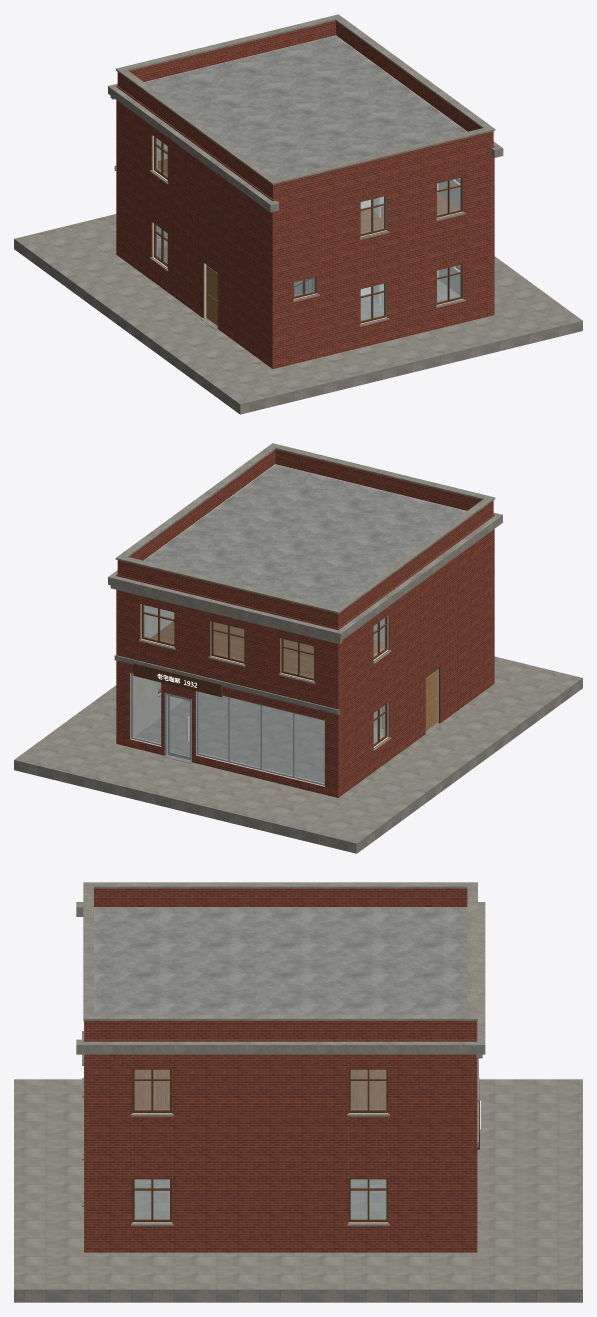
File: b_brick_heritage_cafe.gltf
3 views of the same model, one above another, from view 1: azimuth 30°, elevation 25°; view 2: azimuth 150°, elevation 25°; view 3: azimuth 270°, elevation 25° (orthographic). The views are drawn at different scales.
Parts seen in each view (by area): view 1: S_brick_heritage_cafe, D_brick_heritage_cafe_F1_E1_Door0; view 2: S_brick_heritage_cafe, D_brick_heritage_cafe_F1_S2_Door0, D_brick_heritage_cafe_F1_E1_Door0; view 3: S_brick_heritage_cafe.
Boxes of the visible parts, x1,y1,x2,y2 form: S_brick_heritage_cafe: (14, 14, 582, 414); D_brick_heritage_cafe_F1_E1_Door0: (206, 265, 217, 325); S_brick_heritage_cafe: (14, 443, 582, 853); D_brick_heritage_cafe_F1_S2_Door0: (168, 695, 190, 759); D_brick_heritage_cafe_F1_E1_Door0: (425, 670, 437, 730); S_brick_heritage_cafe: (14, 882, 582, 1302).
Bounding box in the file's own units: 14 × 7.66 × 16.
18 materials, 10 textured.
